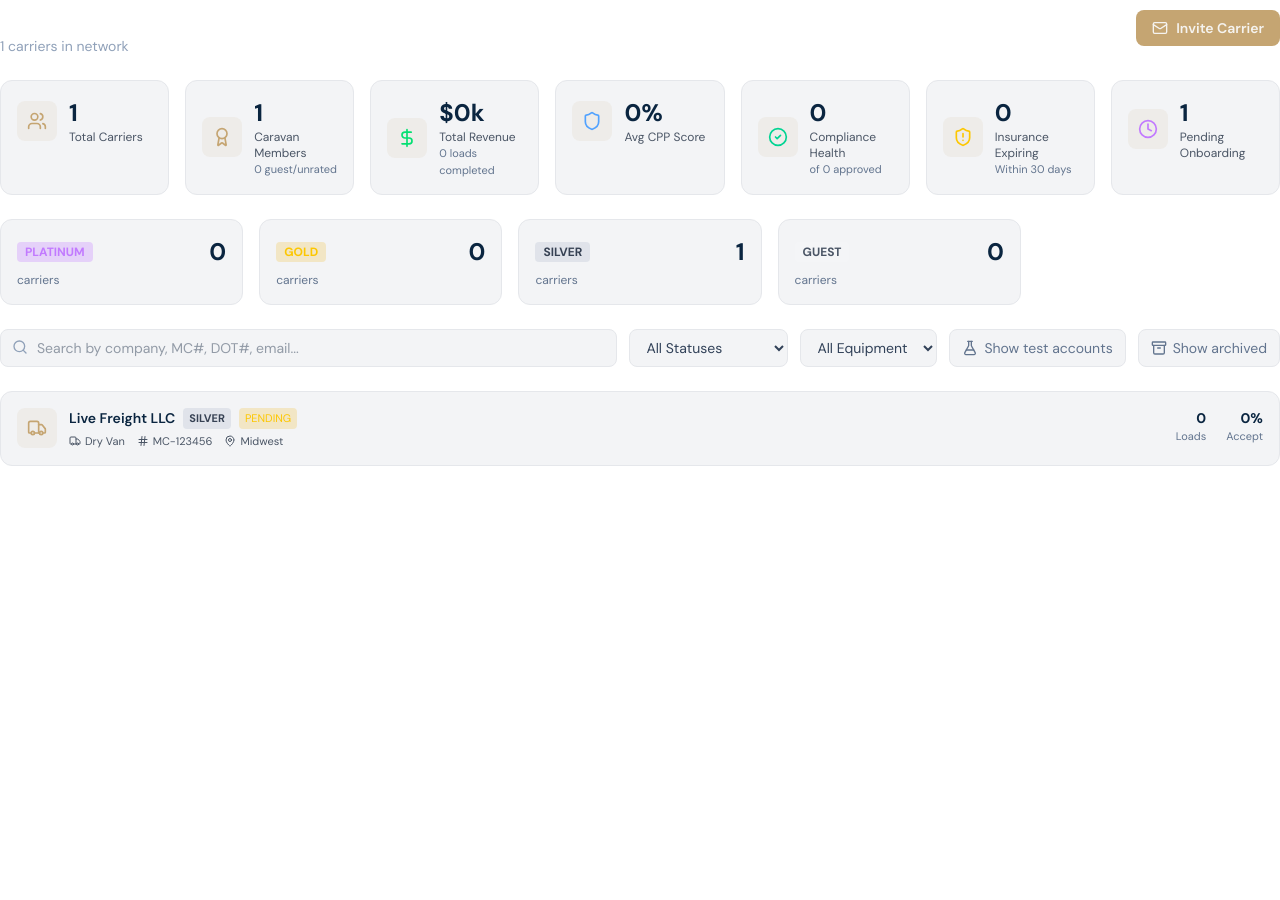
it: C6 — the archive modal › submitting with no reason sends the request and surfaces the server's 422, code and message
Expected: the text "Live Freight LLC" is shown, [69,408,175,428]
Step 1. Click the button "Live Freight LLC" → click(37, 428), box [0,391,1279,466]
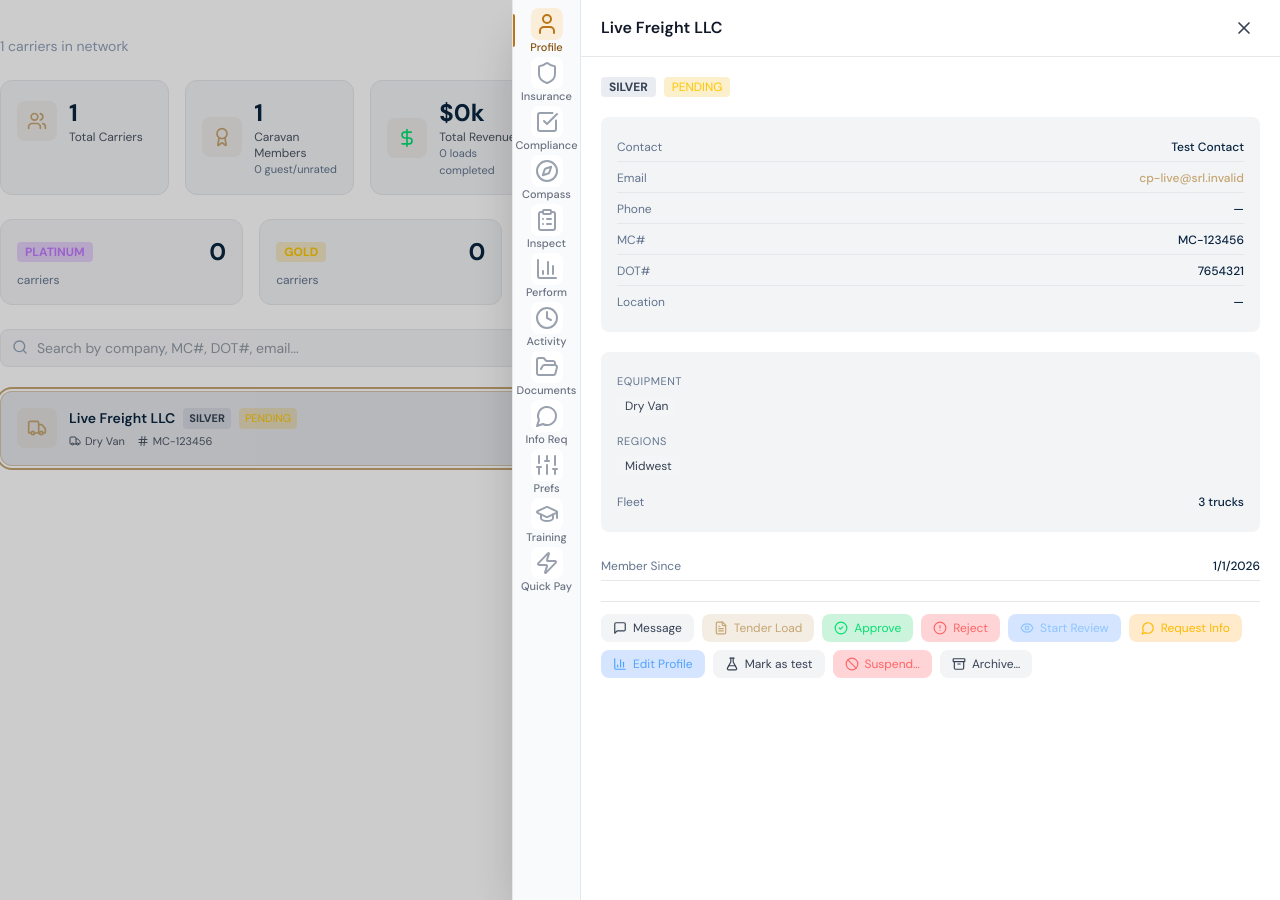
Step 2. Click the button "Archive…" → click(986, 664), box [940,650,1032,678]
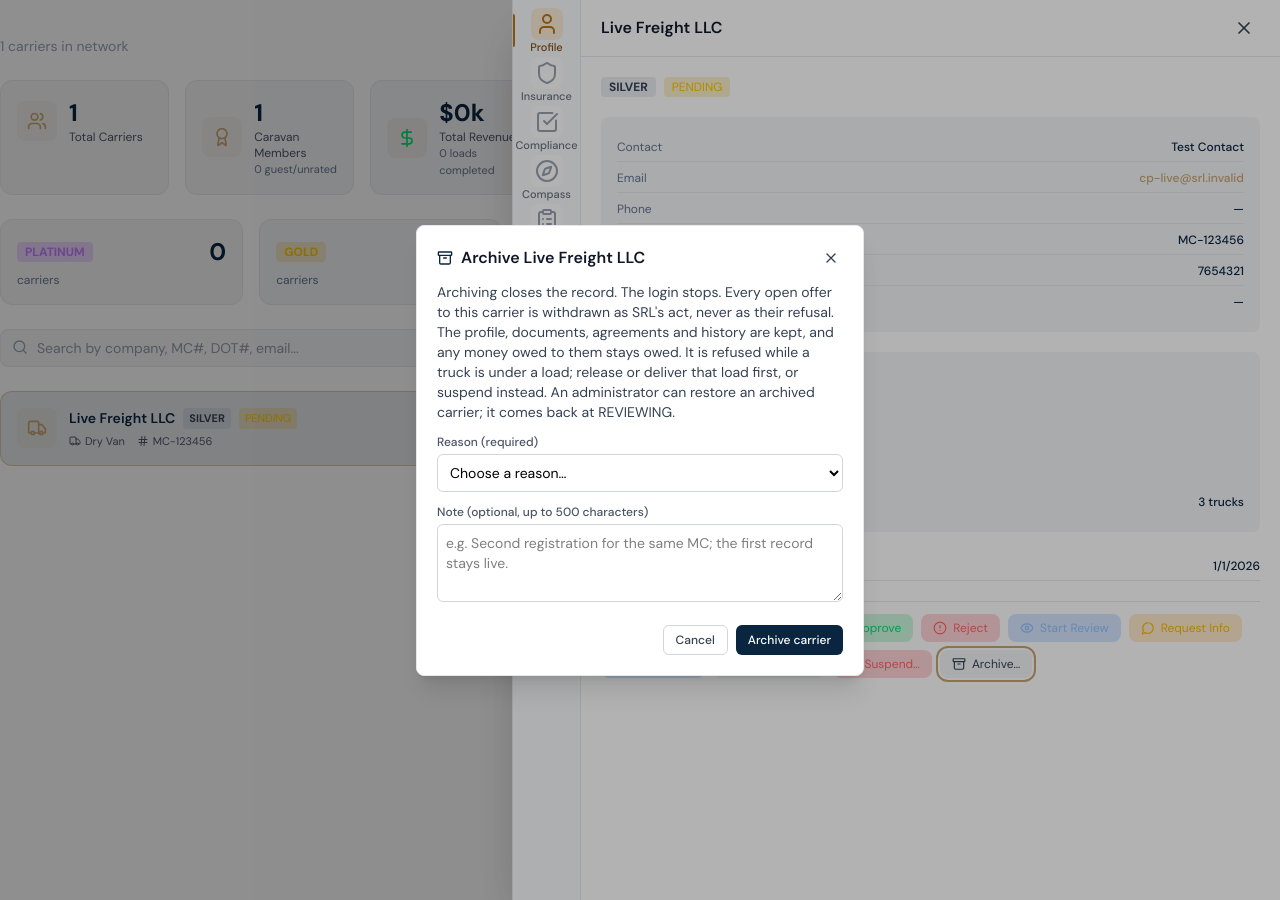
Expected: the button "Archive carrier" is enabled
Step 3. Click the button "Archive carrier" → click(789, 640), box [736,624,843,654]
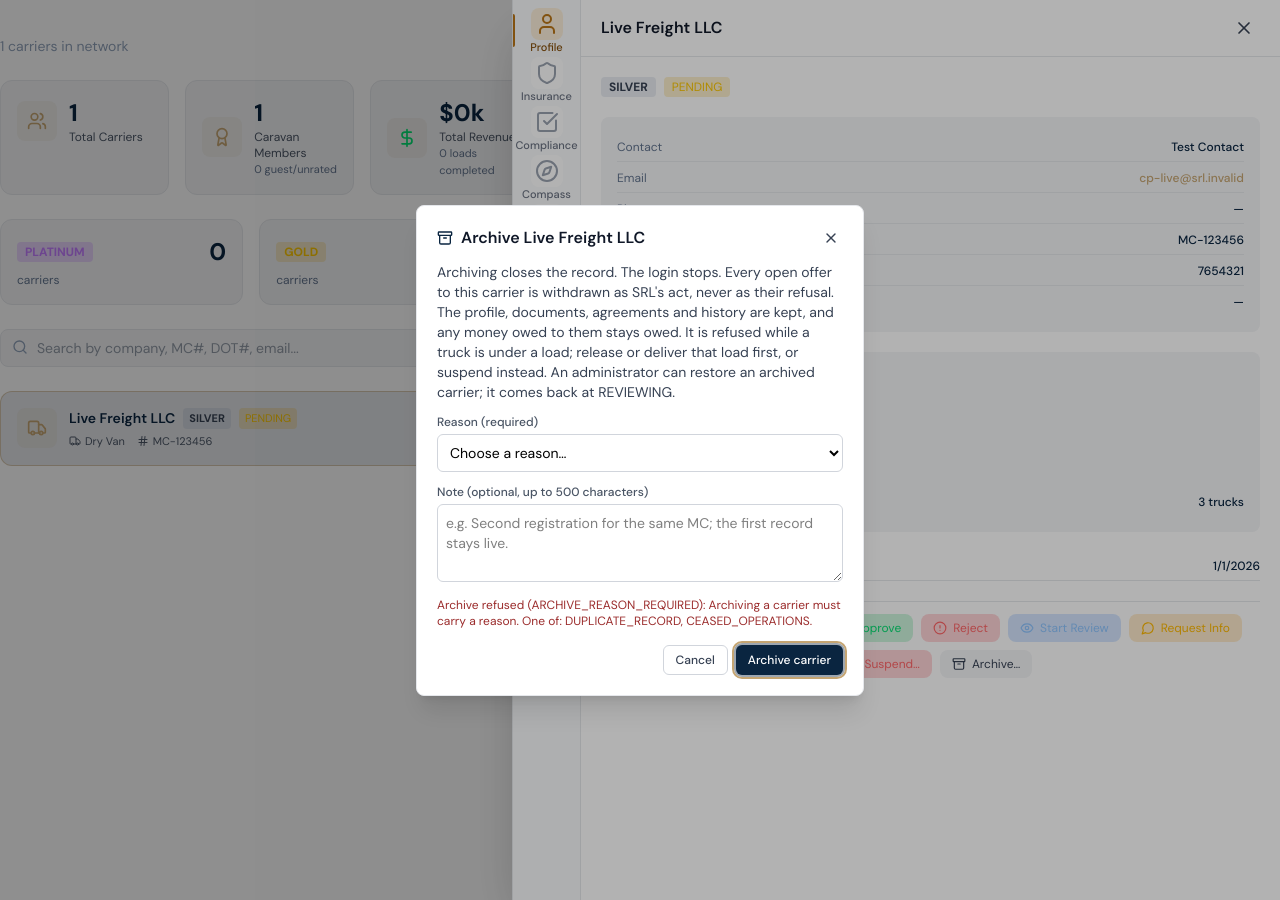
Expected: the dialog "Archive Live Freight LLC" is shown
Expected: the message shows "ARCHIVE_REASON_REQUIRED", [437,596,841,628]
Expected: the message shows "Archiving a carrier must carry a reason. One of: DUPLICATE_RECORD, CEASED_OPERATIONS.", [437,596,841,628]
